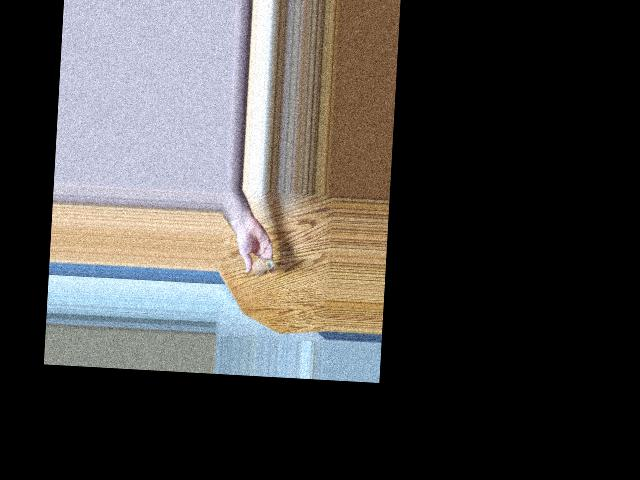sweet_potato: (247, 257, 274, 283)
